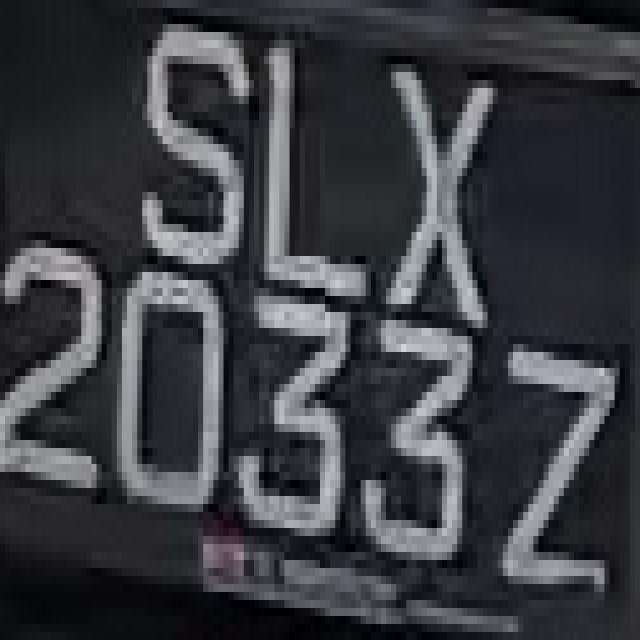0: (96, 216, 228, 528)
2: (5, 216, 107, 536)
3: (346, 256, 472, 584), (239, 256, 340, 560)
L: (249, 32, 361, 328)
S: (132, 0, 264, 280)
X: (356, 32, 518, 320)
Z: (488, 296, 620, 640)
